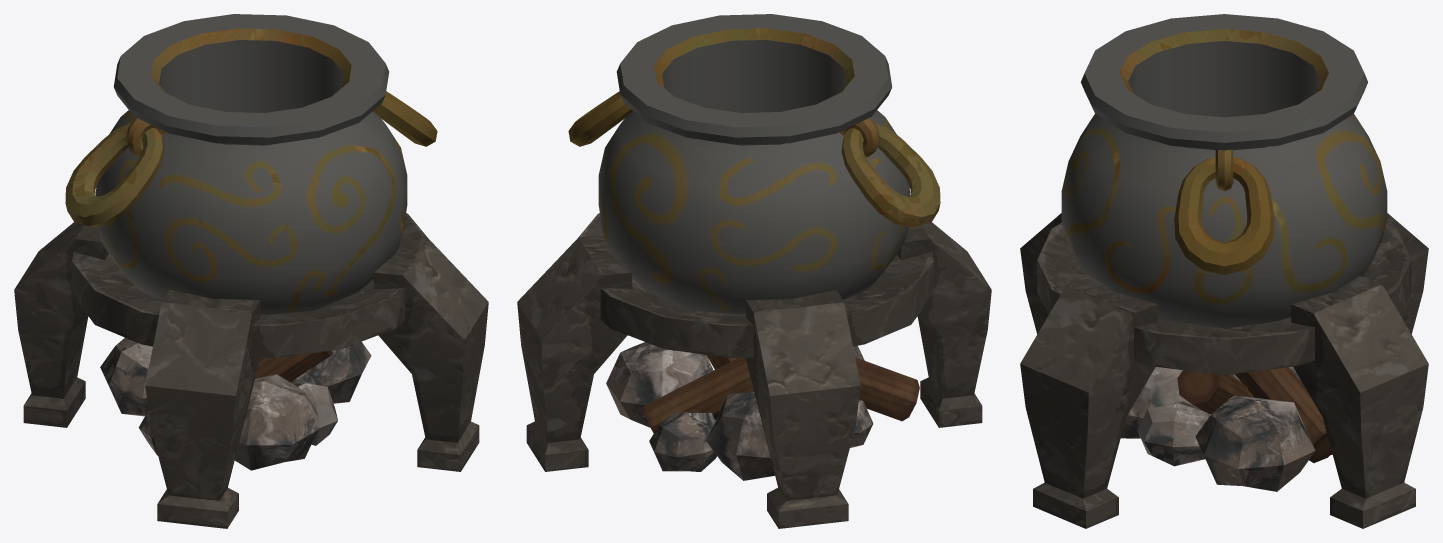
File: SM_PRP_MagicalCauldron.fbx
3 views of the same model, side by side, from view 1: azimuth 30°, elevation 25°; view 2: azimuth 150°, elevation 25°; view 3: azimuth 270°, elevation 25° (orthographic). The views are drawn at different scales.
Visible parts, largest first — view 1: m_Cauldron_low; view 2: m_Cauldron_low; view 3: m_Cauldron_low.
Part boxes in pixels (x1,y1,x2,y2): m_Cauldron_low: [14, 14, 488, 528]; m_Cauldron_low: [517, 14, 991, 528]; m_Cauldron_low: [1020, 14, 1428, 528].
Bounding box in the file's own units: 403 × 388 × 384.
1 material, 1 textured.
